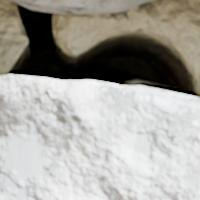brick: (0, 76, 199, 199), (13, 0, 151, 13)
crack: (2, 0, 197, 98)
